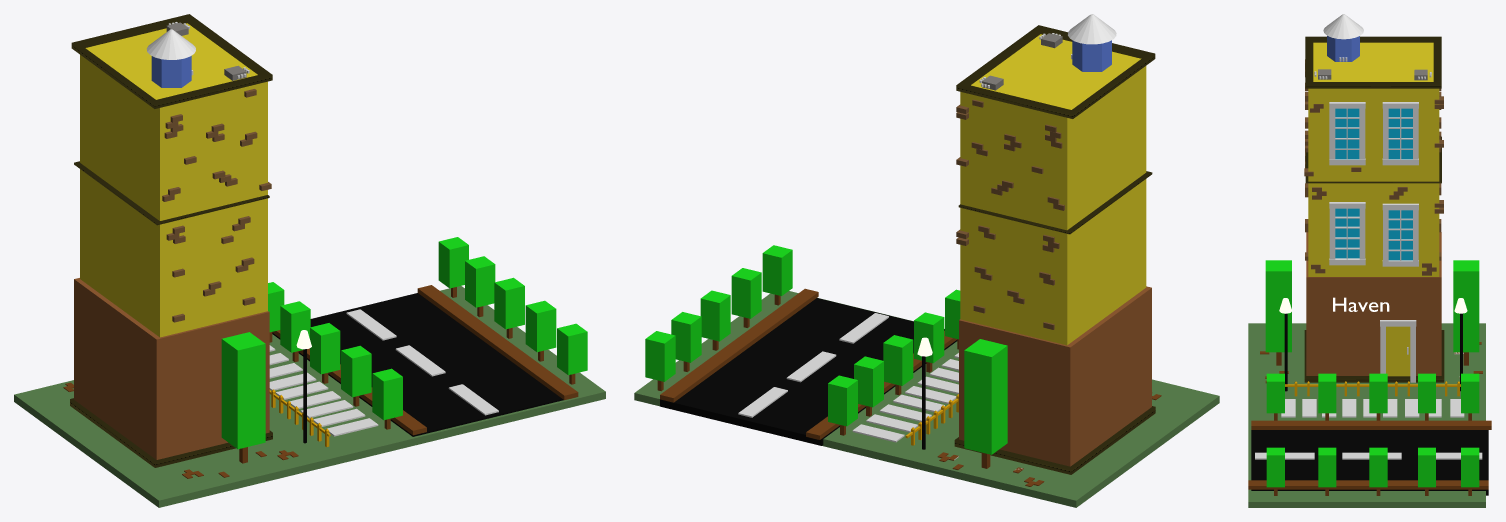
The picture shows the model from 3 angles, left to right: view 1: azimuth 30°, elevation 25°; view 2: azimuth 150°, elevation 25°; view 3: azimuth 270°, elevation 25°; orthographic projection. The views are drawn at different scales.
Visible parts, largest first — view 1: Cube.038, Cube, Cube.008, Cube.040, Cube.032, Cube.003, Cube.033, Cylinder.002, Cone.002, Cube.002, Cube.031; view 2: Cube.038, Cube.008, Cube.040, Cube, Cube.032, Cube.003, Cube.033, Cylinder.002, Cone.002, Cube.002; view 3: Cube.038, Cube, Cube.040, Cube.008, Cube.032, Plane, Cube.033, Cube.003, Cube.056, Cube.058, Cube.009, Cube.013 (+19 smaller).
Part boxes in pixels (left/top/right/bottom): Cube.038: left=80, top=23, right=267, bottom=337; Cube: left=14, top=286, right=605, bottom=507; Cube.008: left=74, top=278, right=269, bottom=459; Cube.040: left=221, top=237, right=587, bottom=449; Cube.032: left=272, top=293, right=563, bottom=436; Cube.003: left=70, top=14, right=272, bottom=467; Cube.033: left=272, top=285, right=578, bottom=435; Cylinder.002: left=151, top=56, right=191, bottom=87; Cone.002: left=146, top=29, right=195, bottom=59; Cube.002: left=239, top=287, right=575, bottom=463; Cube.031: left=269, top=389, right=330, bottom=447; Cube.038: left=960, top=34, right=1146, bottom=345; Cube.008: left=959, top=286, right=1151, bottom=466; Cube.040: left=645, top=245, right=1007, bottom=454; Cube: left=634, top=291, right=1219, bottom=507; Cube.032: left=660, top=298, right=957, bottom=445; Cube.003: left=954, top=25, right=1155, bottom=474; Cube.033: left=660, top=288, right=957, bottom=439; Cylinder.002: left=1072, top=40, right=1111, bottom=71; Cone.002: left=1068, top=14, right=1116, bottom=44; Cube.002: left=657, top=294, right=990, bottom=468; Cube.038: left=1308, top=42, right=1439, bottom=276; Cube: left=1248, top=323, right=1485, bottom=507; Cube.040: left=1265, top=260, right=1479, bottom=487; Cube.008: left=1306, top=232, right=1441, bottom=375; Cube.032: left=1251, top=430, right=1488, bottom=495; Plane: left=1335, top=108, right=1412, bottom=260; Cube.033: left=1248, top=420, right=1491, bottom=489; Cube.003: left=1304, top=36, right=1444, bottom=382; Cube.056: left=1386, top=326, right=1410, bottom=376; Cube.058: left=1329, top=202, right=1365, bottom=265; Cube.009: left=1329, top=102, right=1365, bottom=165; Cube.013: left=1382, top=203, right=1418, bottom=266.
Bounding box in the file's own units: 64.01 × 57.25 × 36.86.
